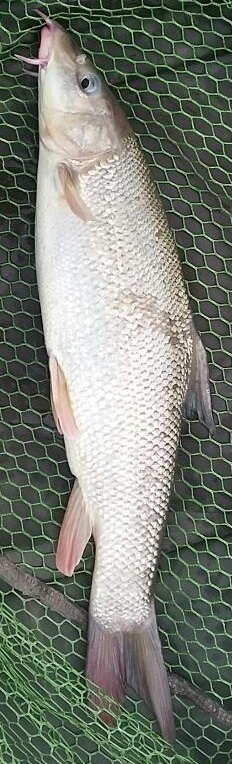Barbus barbus: (20, 20, 212, 744)
